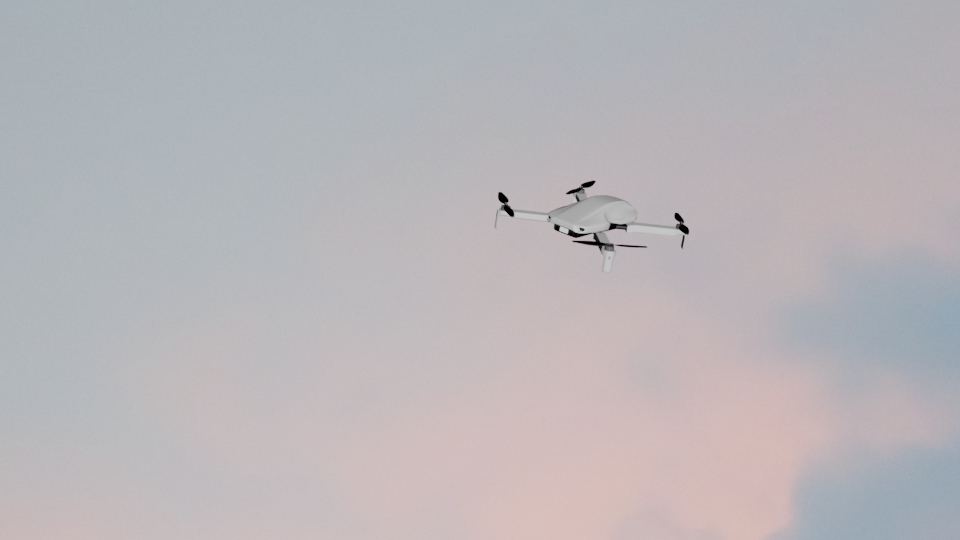drone: (493, 180, 690, 272)
